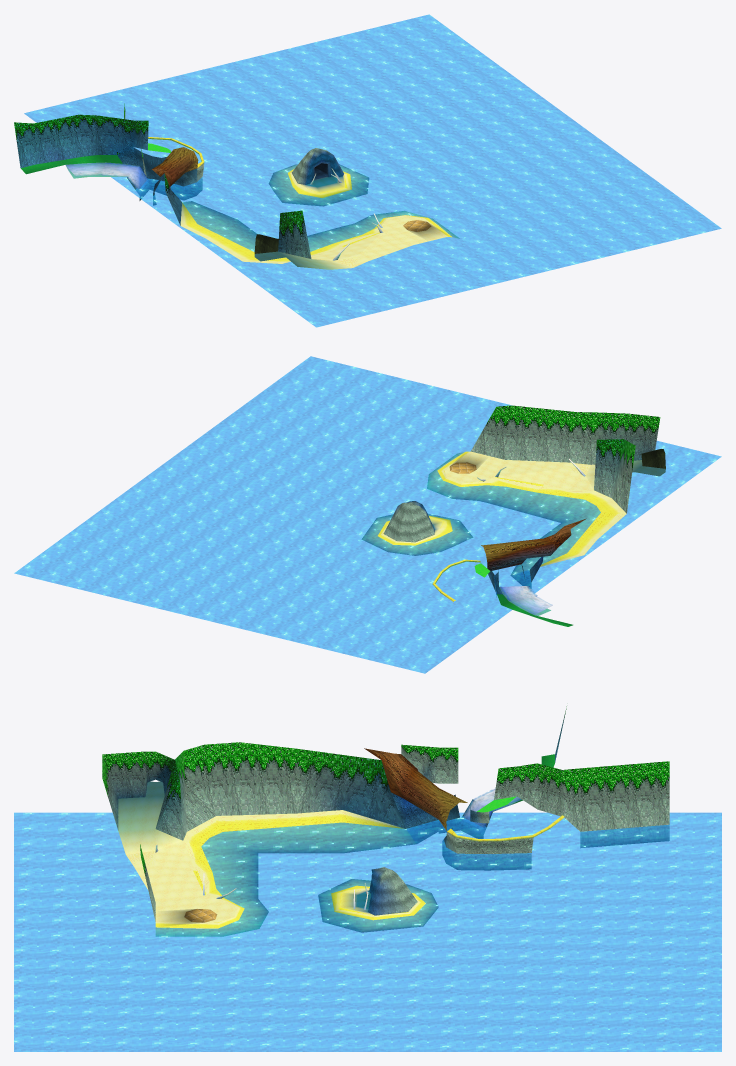
File: PartySeq.glb
3 views of the same model, one above another, from view 1: azimuth 30°, elevation 25°; view 2: azimuth 150°, elevation 25°; view 3: azimuth 270°, elevation 25° (orthographic). The views are drawn at different scales.
Visible parts, largest first — view 1: PartySeq_Alpha_5, PartySeq_2, PartySeq_10, PartySeq_0, PartySeq_6, PartySeq_9, PartySeq_8, PartySeq_1, PartySeq_Alpha_4; view 2: PartySeq_Alpha_5, PartySeq_2, PartySeq_10, PartySeq_0, PartySeq_9, PartySeq_6, PartySeq_8, PartySeq_1; view 3: PartySeq_Alpha_5, PartySeq_2, PartySeq_10, PartySeq_0, PartySeq_6, PartySeq_9, PartySeq_8, PartySeq_Alpha_4.
Part boxes in pixels (x1,y1,x2,y2): PartySeq_Alpha_5: (24, 14, 721, 327); PartySeq_2: (14, 103, 311, 258); PartySeq_10: (183, 164, 459, 251); PartySeq_0: (65, 162, 446, 269); PartySeq_6: (117, 147, 343, 205); PartySeq_9: (180, 169, 451, 263); PartySeq_8: (151, 147, 198, 188); PartySeq_1: (21, 143, 170, 174); PartySeq_Alpha_4: (101, 162, 148, 190); PartySeq_Alpha_5: (14, 356, 721, 673); PartySeq_2: (470, 405, 660, 513); PartySeq_10: (362, 452, 600, 574); PartySeq_0: (429, 451, 665, 615); PartySeq_9: (378, 451, 626, 566); PartySeq_6: (383, 501, 543, 594); PartySeq_8: (481, 518, 586, 570); PartySeq_1: (474, 563, 572, 626); PartySeq_Alpha_5: (14, 812, 721, 1051); PartySeq_2: (102, 706, 669, 921); PartySeq_10: (156, 823, 438, 936); PartySeq_0: (118, 781, 521, 922); PartySeq_6: (368, 792, 533, 915); PartySeq_9: (155, 810, 425, 928); PartySeq_8: (364, 748, 467, 830); PartySeq_Alpha_4: (462, 789, 520, 829).
Size of the model in its own units: 1193 by 180 by 1263.
Materials: 15 (15 with a texture image).
